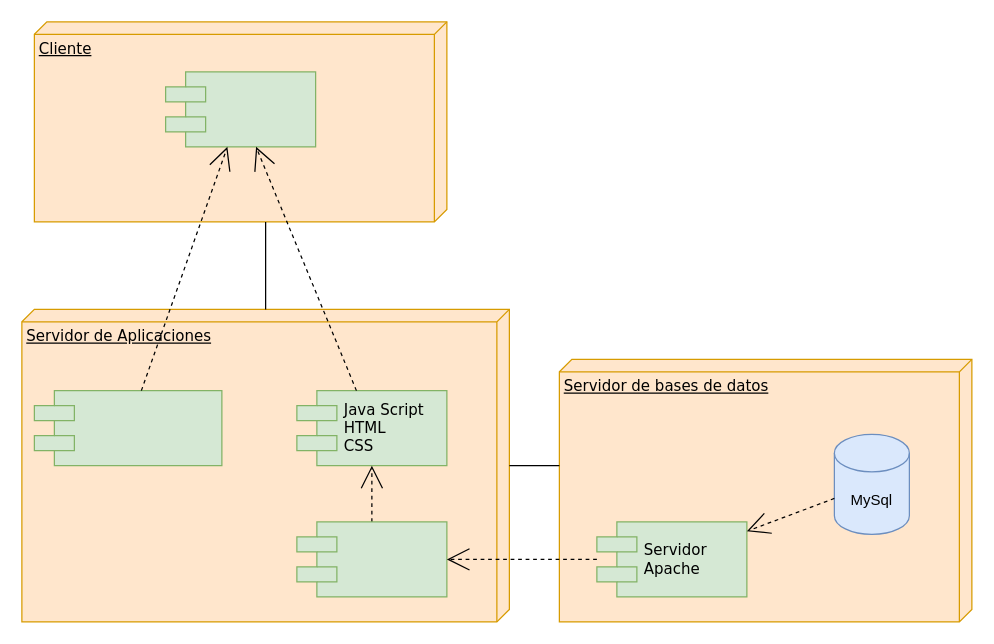
Some shapes in this 994 by 644 pixel diagram are drawn without their labels. The shapes that lost their labels are listed below. From the top down, each one's centre as x and y in pixels, then its label:
At point (240, 109): "App Worki".
At point (127, 427): "Directorio activo".
At point (371, 559): "PHP".
